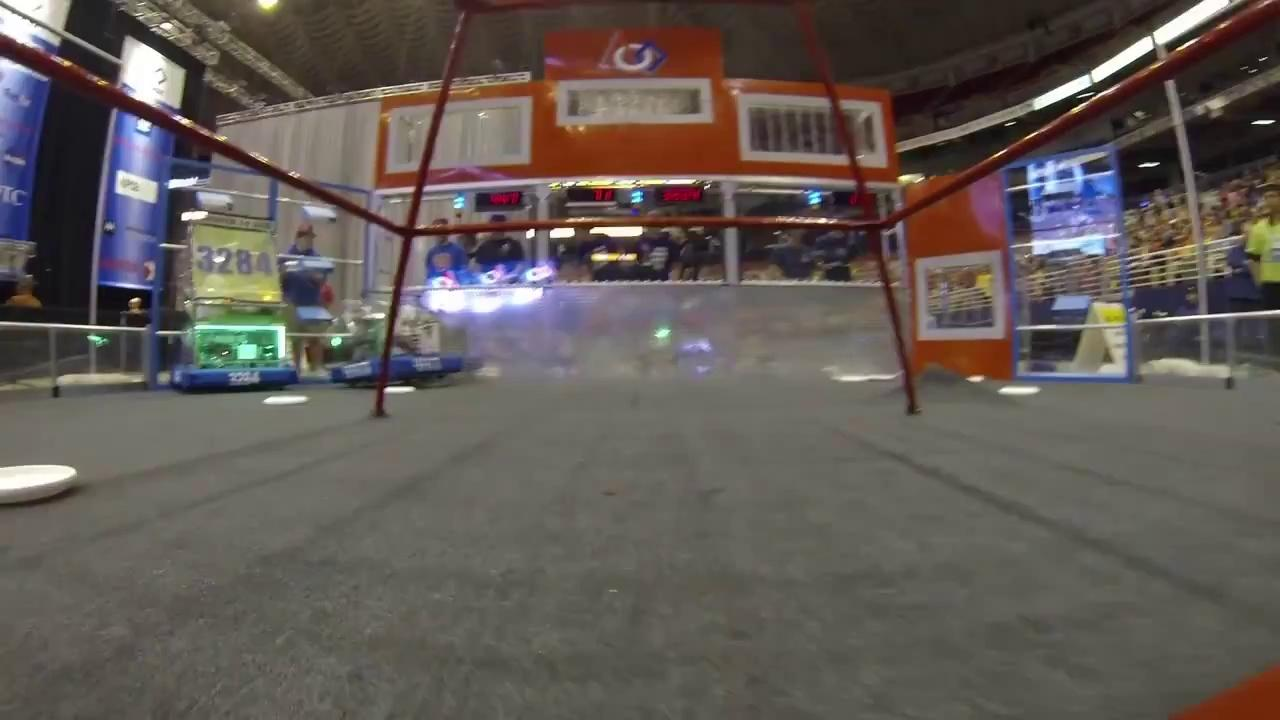robot: (171, 207, 302, 395), (321, 303, 466, 386)
